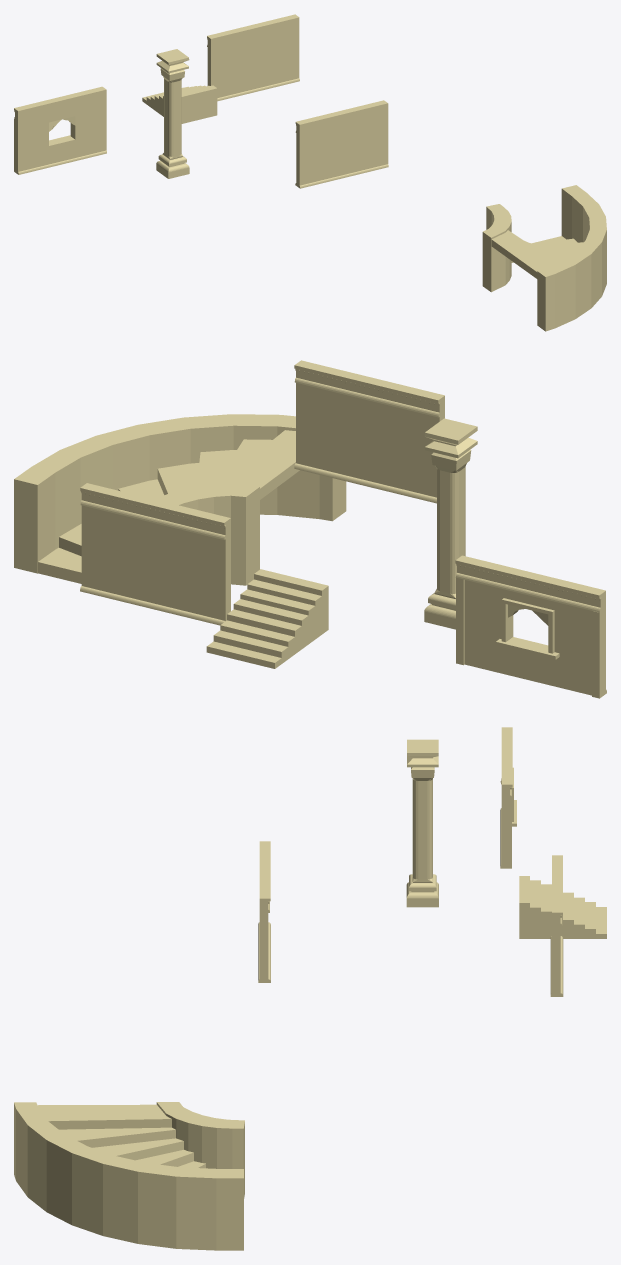
The model's file is assets from aum's ai map.fbx.
3 views of the same model, one above another, from view 1: azimuth 30°, elevation 25°; view 2: azimuth 150°, elevation 25°; view 3: azimuth 270°, elevation 25° (orthographic). The views are drawn at different scales.
Parts seen in each view (by area): view 1: curved stair w.001, palace wall a.002, palace wall a.003, window palace wall a.001, pillar a.001, stair 1.001; view 2: curved stair w.001, palace wall a.003, palace wall a.002, window palace wall a.001, stair 1.001, pillar a.001; view 3: curved stair w.001, pillar a.001, stair 1.001, window palace wall a.001, palace wall a.002, palace wall a.003.
Part boxes in pixels (box(x1,y1,x2,y2)): curved stair w.001: box(482, 185, 606, 331); palace wall a.002: box(295, 100, 388, 188); palace wall a.003: box(207, 14, 299, 101); window palace wall a.001: box(14, 86, 106, 174); pillar a.001: box(156, 49, 189, 178); stair 1.001: box(142, 85, 217, 123); curved stair w.001: box(14, 414, 346, 585); palace wall a.003: box(80, 483, 230, 625); palace wall a.002: box(294, 360, 444, 503); window palace wall a.001: box(455, 555, 606, 698); stair 1.001: box(206, 569, 328, 668); pillar a.001: box(424, 418, 477, 629); curved stair w.001: box(14, 1102, 244, 1250); pillar a.001: box(406, 739, 438, 907); stair 1.001: box(519, 876, 606, 938); window palace wall a.001: box(500, 727, 516, 868); palace wall a.002: box(258, 841, 270, 982); palace wall a.003: box(550, 855, 563, 996).
Bounding box in the file's own units: 2899 × 2434 × 1300.
